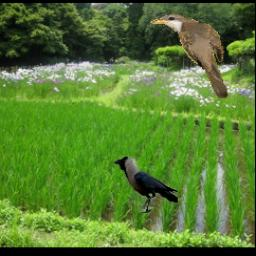Crow: (114, 156, 179, 213)
Cuckoo: (150, 14, 228, 98)
